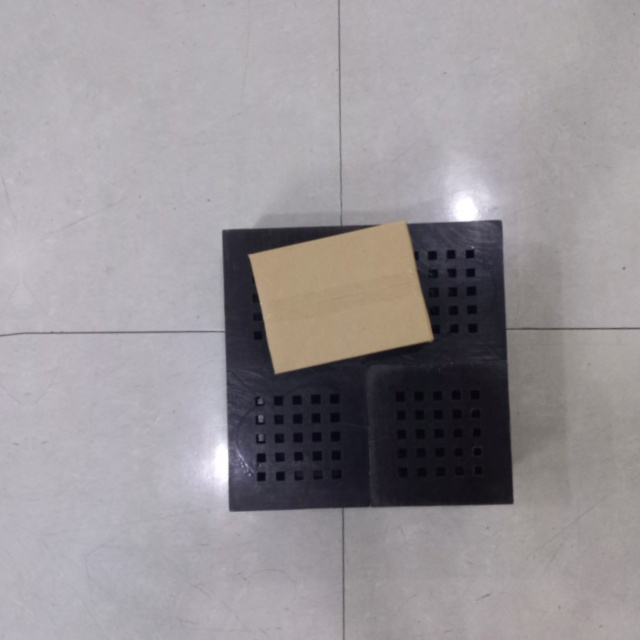box: (244, 218, 438, 380)
pallet: (214, 212, 516, 518)
